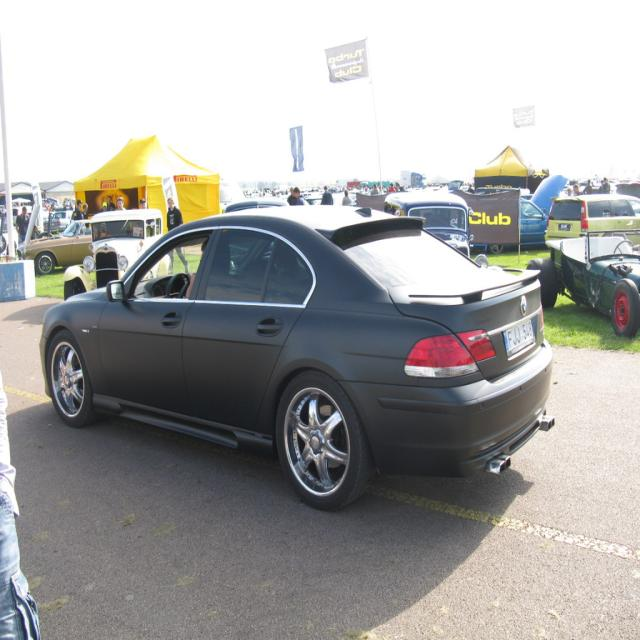car: (39, 204, 553, 513)
